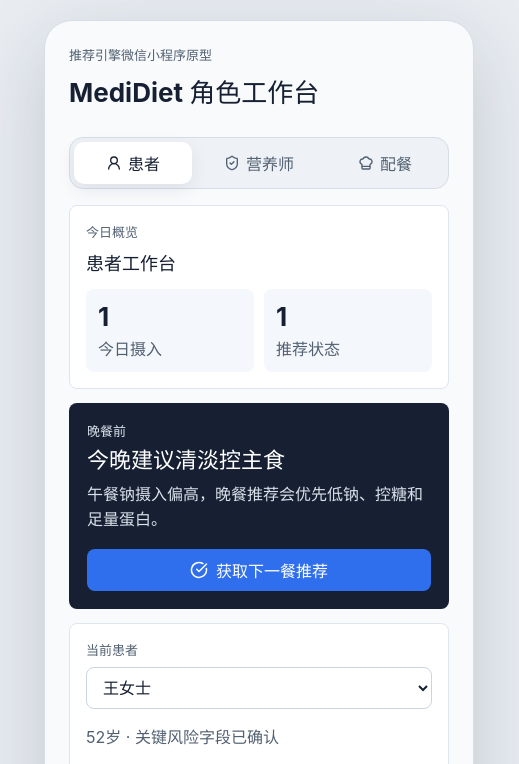
Test: App role workbench › renders the role workbench and switches roles
This screenshot has width=519, height=764.
Check: the heading "MediDiet 角色工作台" is shown, box [69,72,319,109]
Check: the heading "患者工作台" is shown, box [86,249,176,275]
Click the button "营养师": click(259, 163) [200,142,318,184]
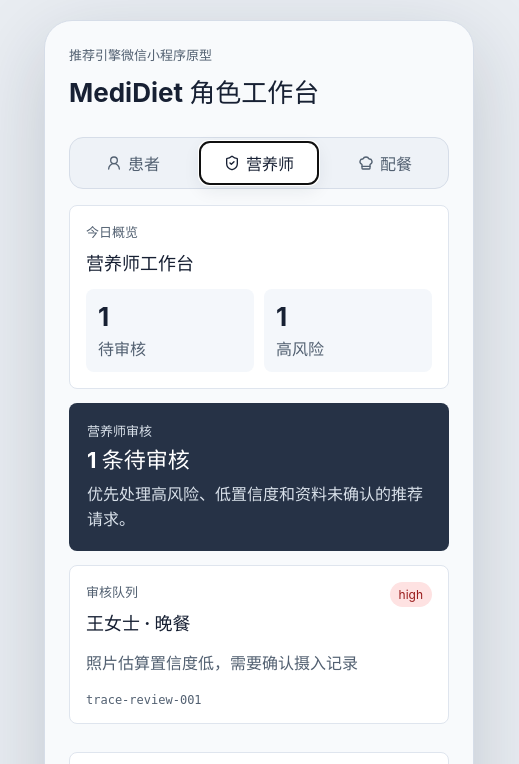
Check: the heading "营养师工作台" is shown, box [86,249,194,275]
